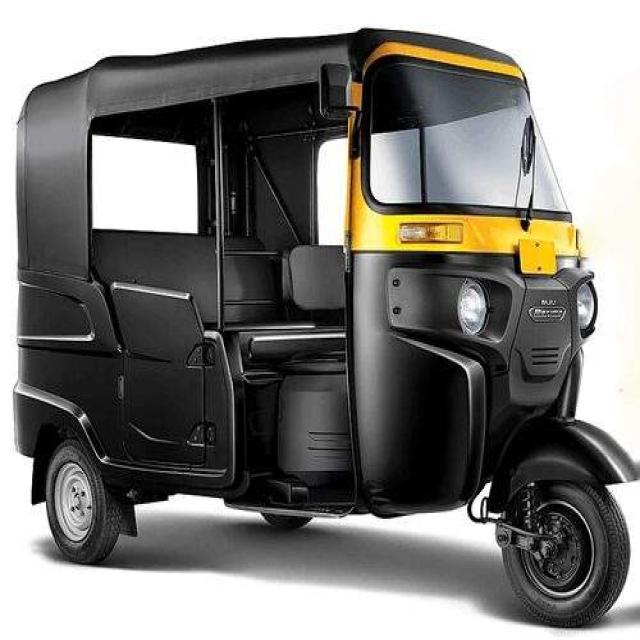autorickshaw: (15, 29, 635, 626)
